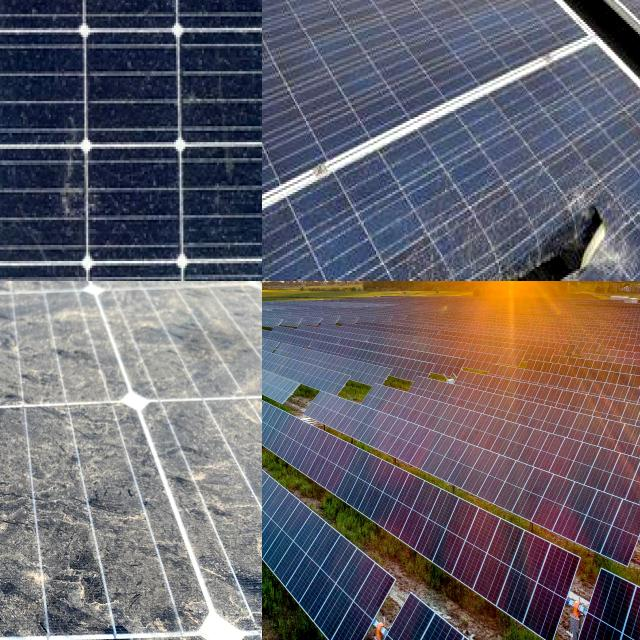dust: (0, 0, 176, 252), (0, 401, 136, 640), (0, 409, 108, 640), (0, 0, 88, 281), (187, 45, 262, 281), (142, 292, 262, 403), (206, 398, 262, 595), (0, 295, 90, 412), (0, 295, 74, 418), (178, 0, 262, 100), (0, 0, 165, 50), (0, 0, 43, 76), (0, 292, 23, 418), (0, 281, 262, 290), (0, 0, 44, 52)
hotspot: (386, 199, 640, 281)
